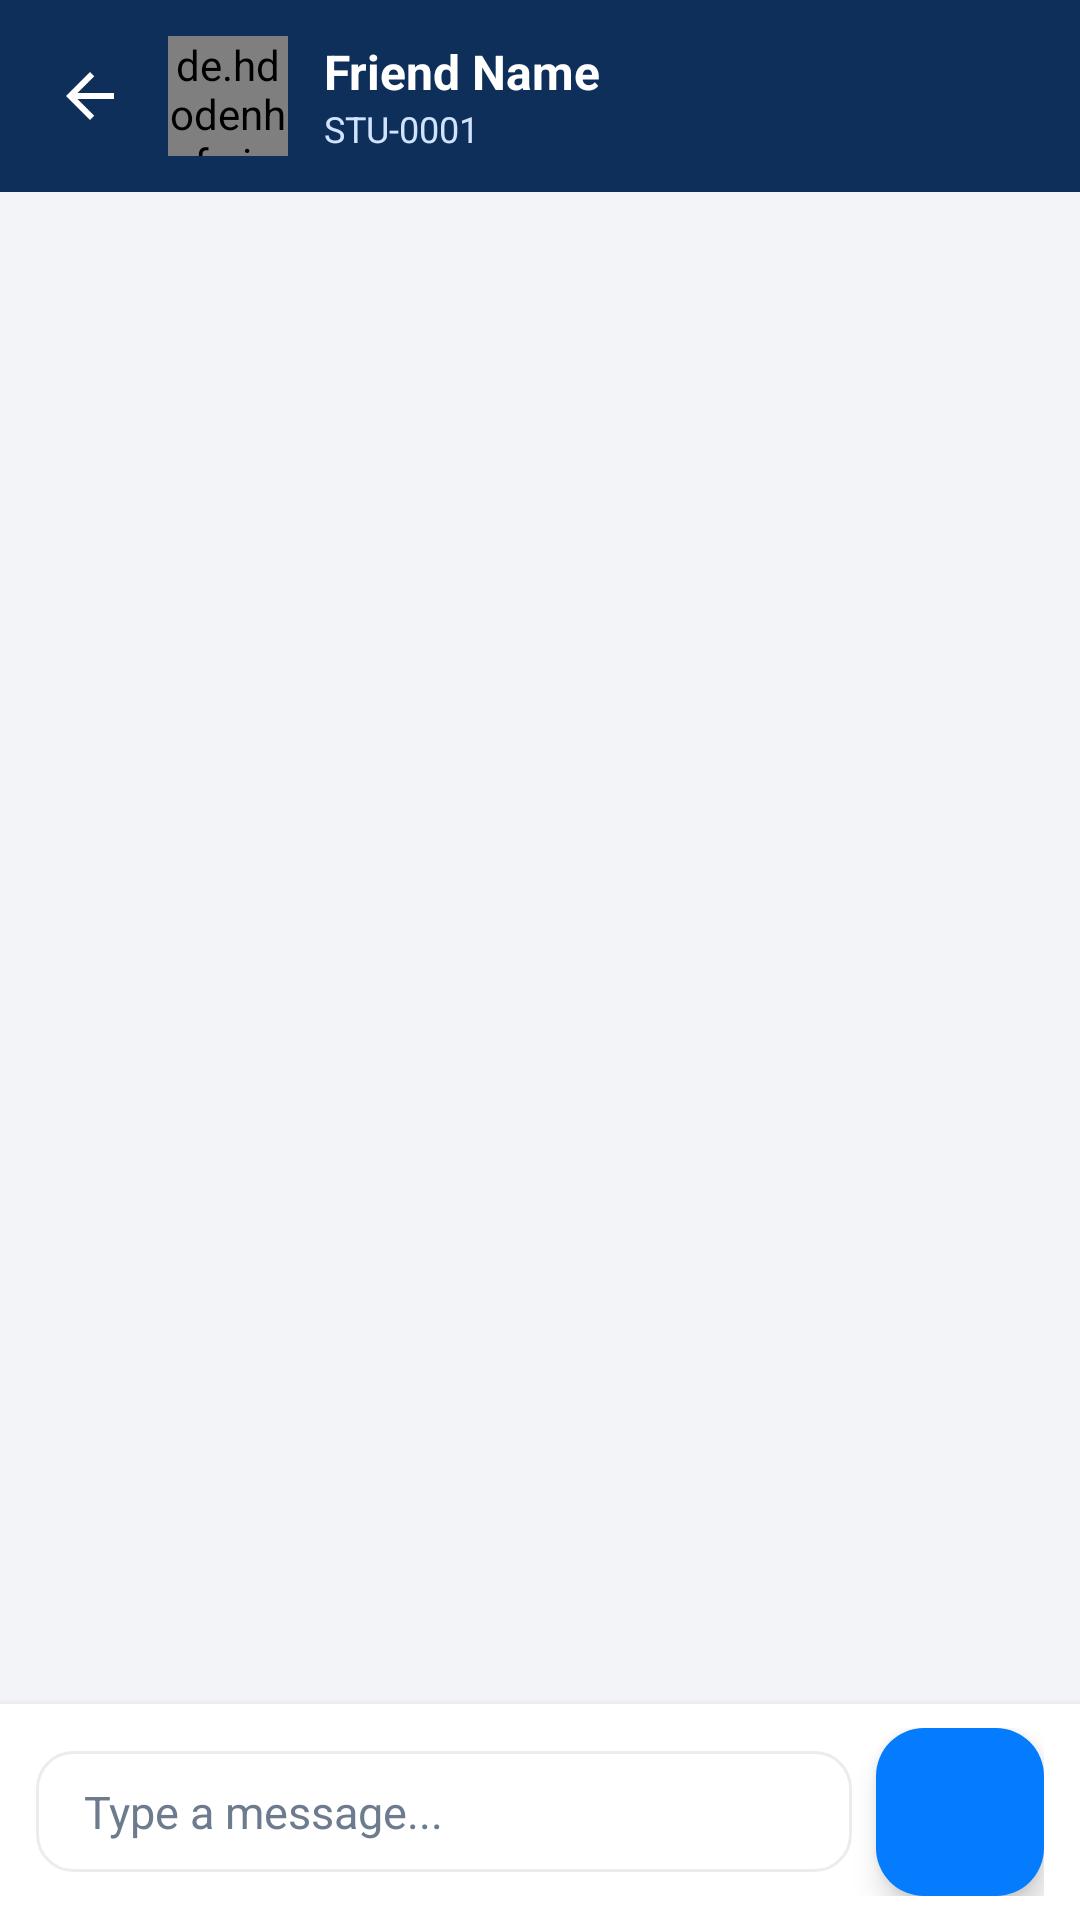

Screen size 1080px x 1920px. Icon name, then its center in pixels as [x,y]:
arrow back: [90,96]
